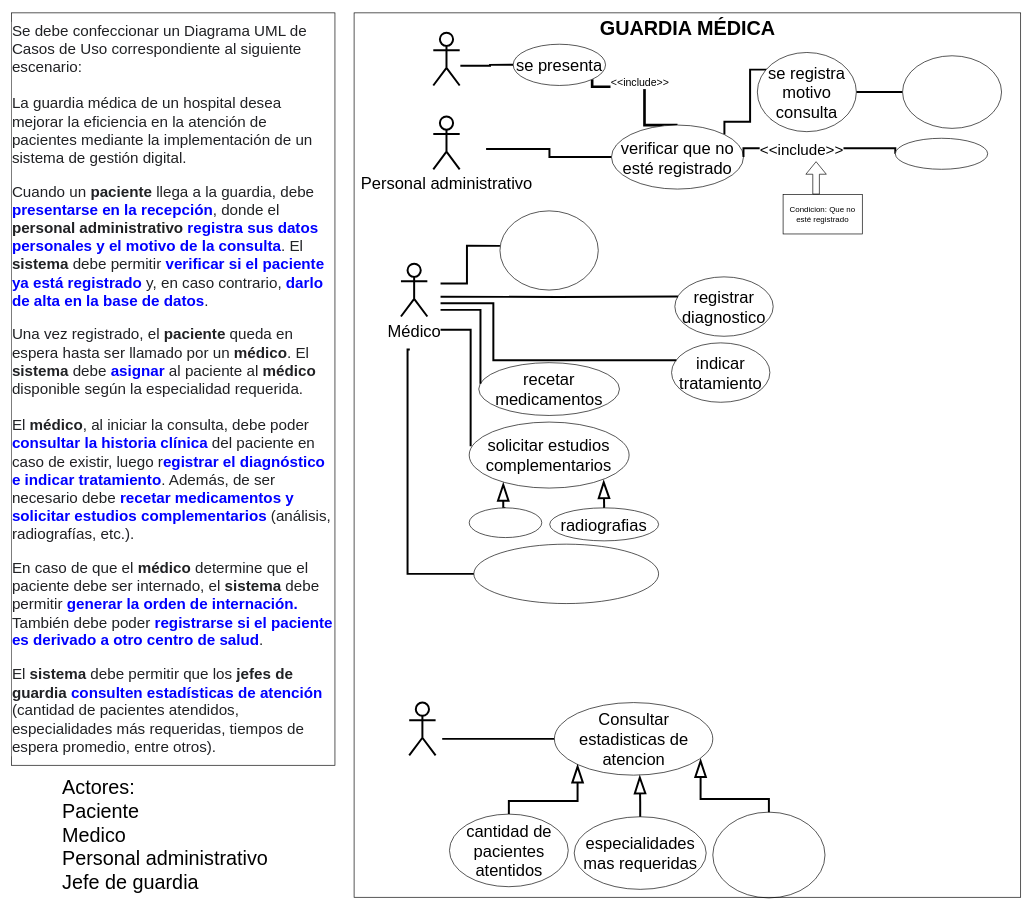
Some shapes in this 1032 by 909 pixel diagram are drawn without their labels. Here are the shapes that lost their labels. From the top down, the centre of each, then its label:
At [446,58]: "Paciente".
At [952,91]: "Asignar médico disponible".
At [941,153]: "dar de alta".
At [548,250]: "Consultar historia clínica".
At [505,522]: "analisis".
At [566,574]: "registrar derivación a otro centro de salud".
At [422,728]: "Jefe de guardia".
At [768,854]: "tiempos de espera promedio".
